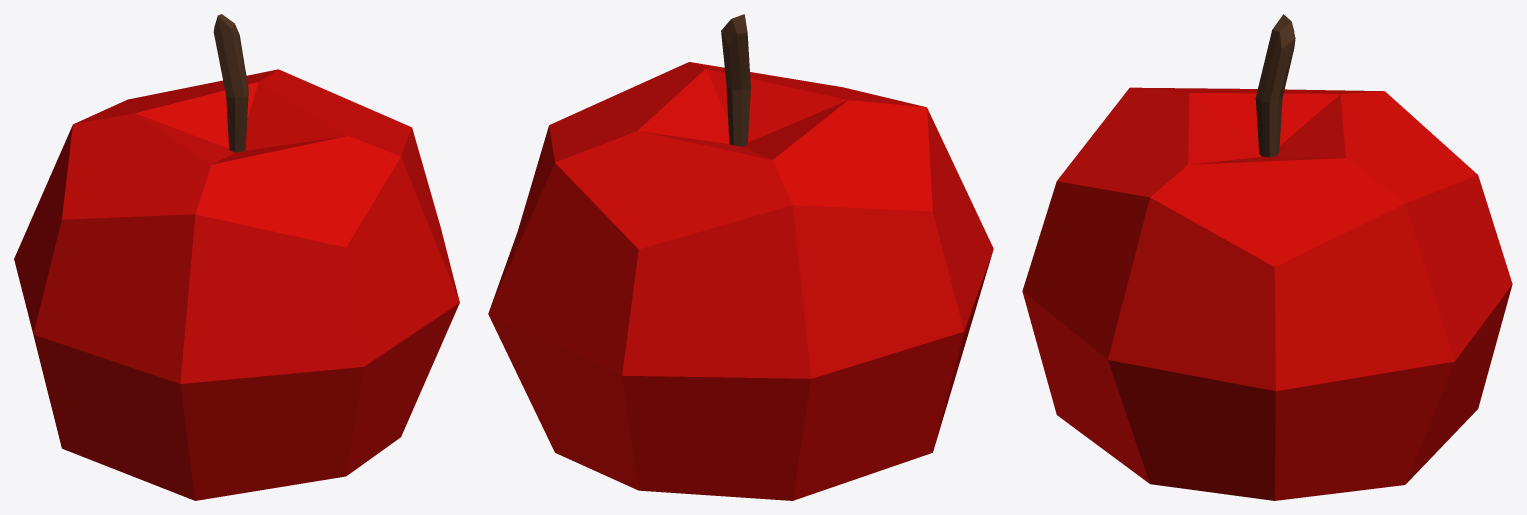
Rendered from red apple.fbx.
The picture shows the model from 3 angles, left to right: view 1: azimuth 30°, elevation 25°; view 2: azimuth 150°, elevation 25°; view 3: azimuth 270°, elevation 25°; orthographic projection. The views are drawn at different scales.
Visible parts, largest first — view 1: Cube.001; view 2: Cube.001; view 3: Cube.001.
Part boxes in pixels (box(x1,y1,x2,y2)): Cube.001: box(14, 14, 459, 500); Cube.001: box(488, 14, 993, 500); Cube.001: box(1022, 14, 1512, 500).
Size of the model in its own units: 135 by 132 by 135.
